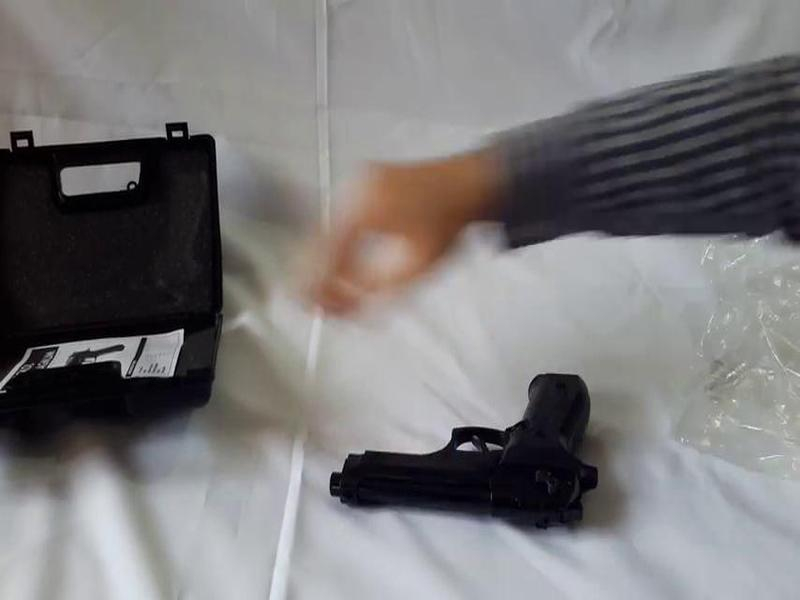Pistola: (310, 353, 610, 544)
